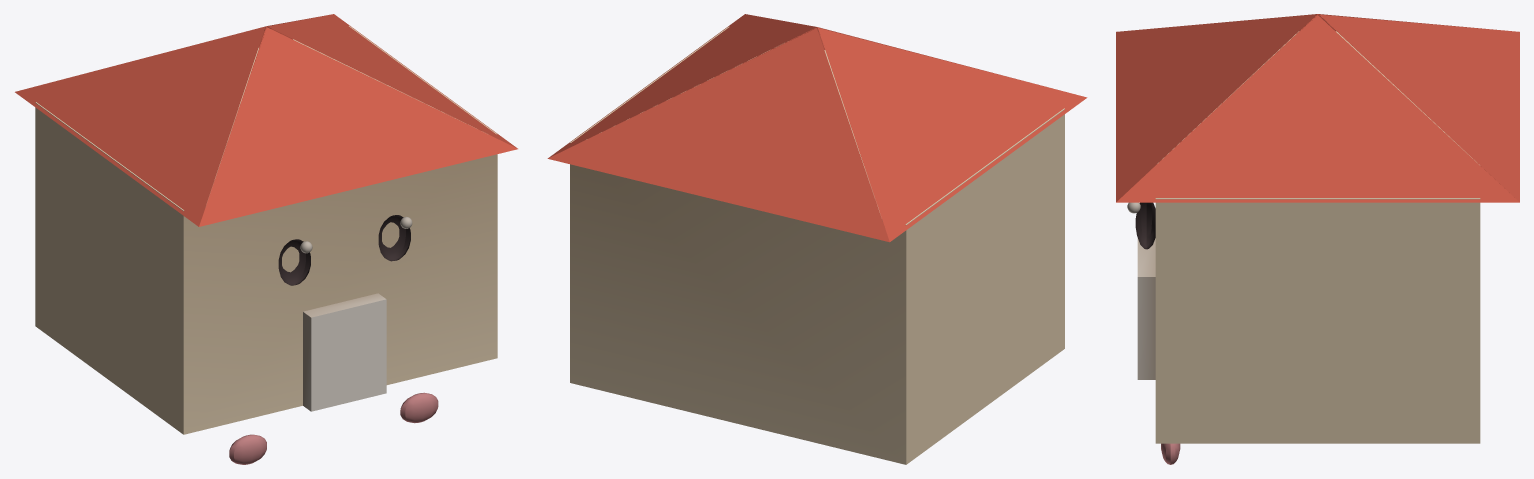
The picture shows the model from 3 angles, left to right: view 1: azimuth 30°, elevation 25°; view 2: azimuth 150°, elevation 25°; view 3: azimuth 270°, elevation 25°; orthographic projection. The views are drawn at different scales.
Parts seen in each view (by area): view 1: pet_pd7776bb2; view 2: pet_pd7776bb2; view 3: pet_pd7776bb2.
Part boxes in pixels (x1,y1,x2,y2): pet_pd7776bb2: (15, 14, 517, 464); pet_pd7776bb2: (547, 14, 1087, 464); pet_pd7776bb2: (1116, 14, 1519, 464).
Bounding box in the file's own units: 0.448 × 0.4919 × 0.448.
